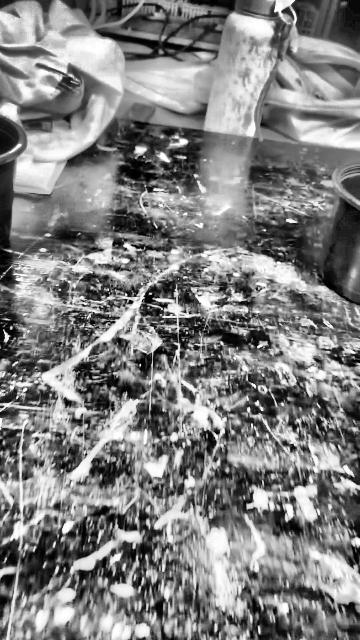pot: (321, 169, 360, 305)
